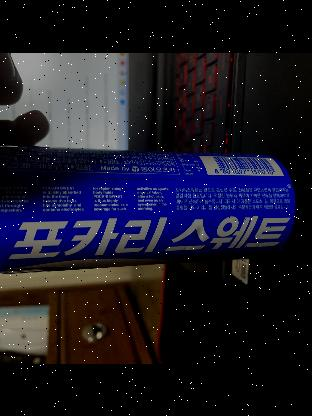Can: (0, 140, 304, 291)
